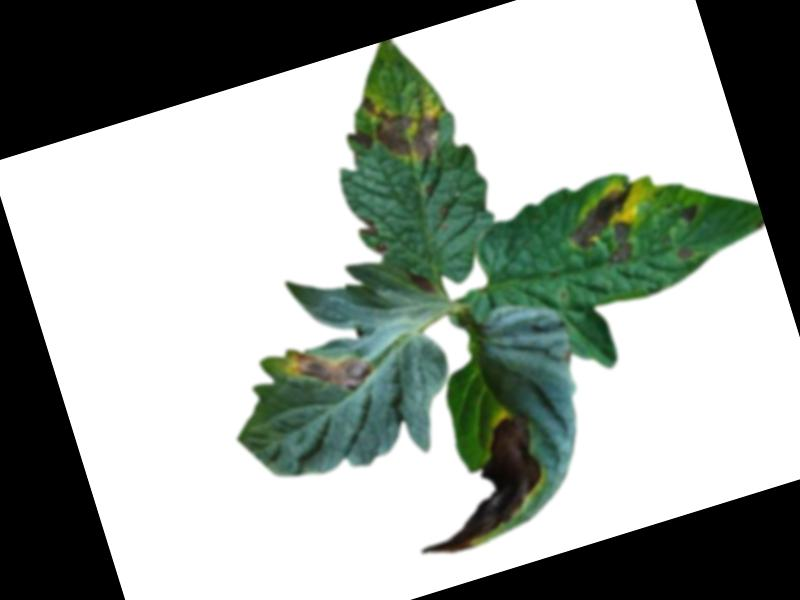Early_blight: (390, 411, 560, 563), (358, 76, 450, 176), (560, 181, 655, 276), (279, 328, 378, 410), (357, 211, 388, 259), (406, 262, 436, 300), (347, 126, 374, 156), (677, 202, 703, 227), (674, 244, 694, 262)
